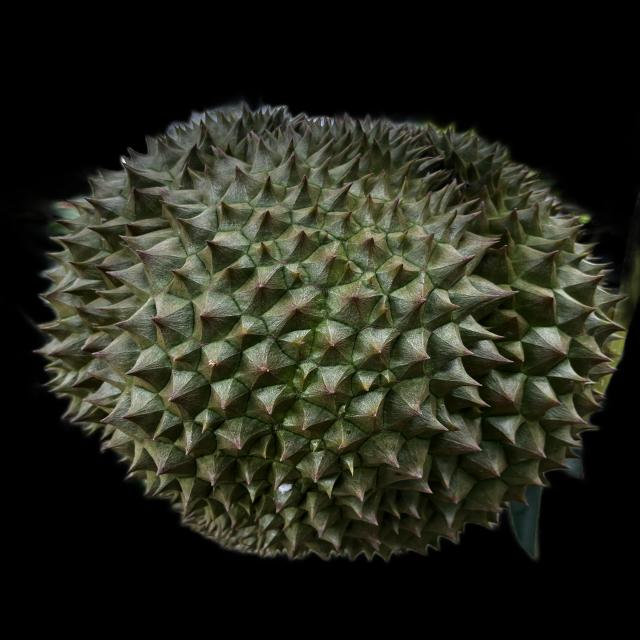immature: (30, 101, 636, 566)
